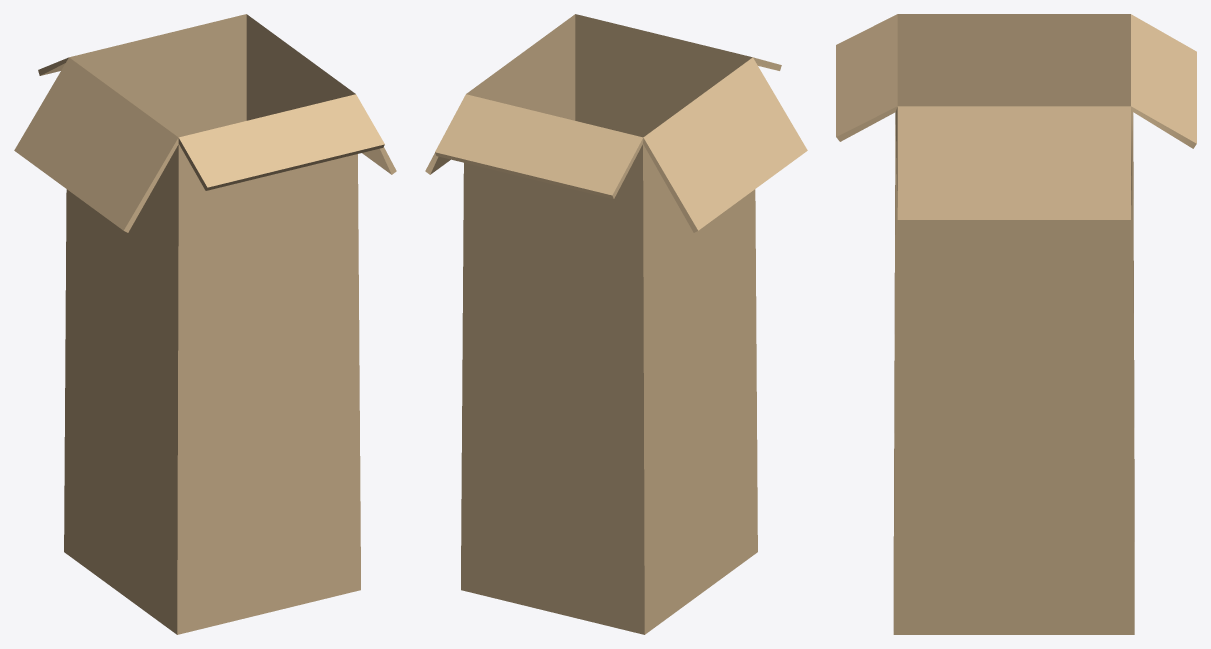
Rendered from SM_carton_04.fbx.
3 views of the same model, side by side, from view 1: azimuth 30°, elevation 25°; view 2: azimuth 150°, elevation 25°; view 3: azimuth 270°, elevation 25° (orthographic). The views are drawn at different scales.
Visible parts, largest first — view 1: Box071; view 2: Box071; view 3: Box071.
Part boxes in pixels (x1,y1,x2,y2): Box071: (14, 14, 396, 634); Box071: (425, 14, 807, 634); Box071: (836, 14, 1196, 634).
Bounding box in the file's own units: 19.34 × 20.78 × 33.51.
